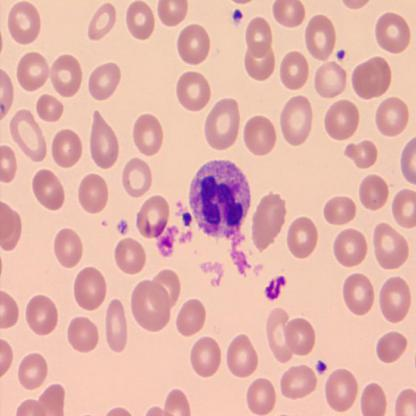Segmented neutrophil: (187, 157, 252, 240)
